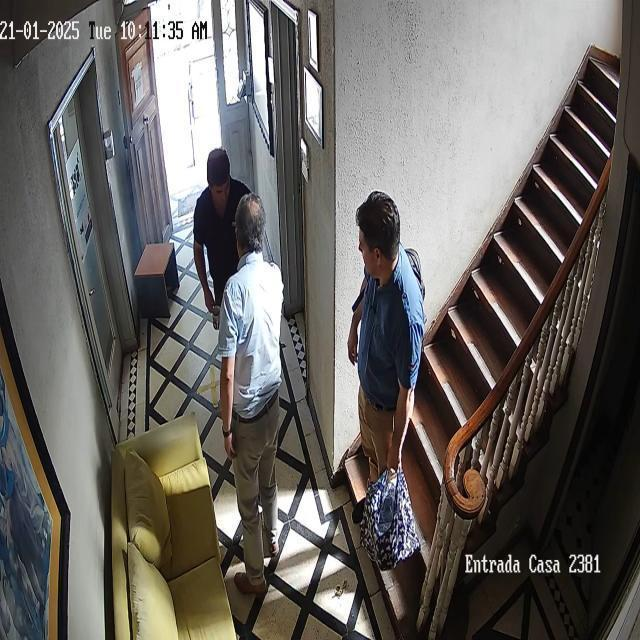fire: (122, 180, 170, 270)
